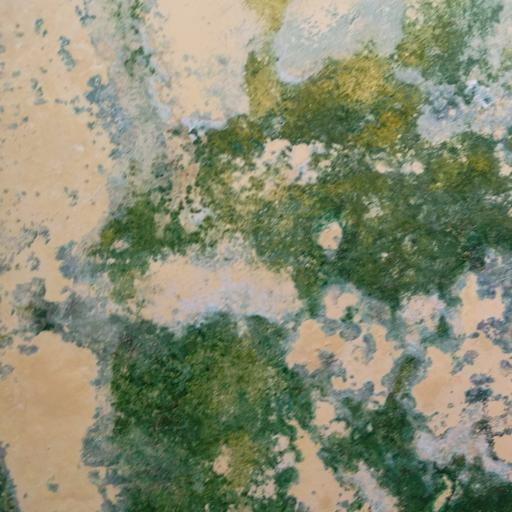algae: (62, 60, 512, 512)
